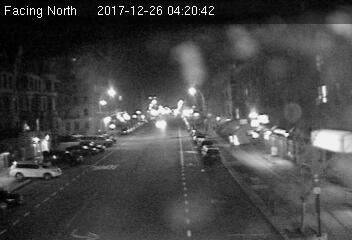car: (200, 146, 223, 163)
